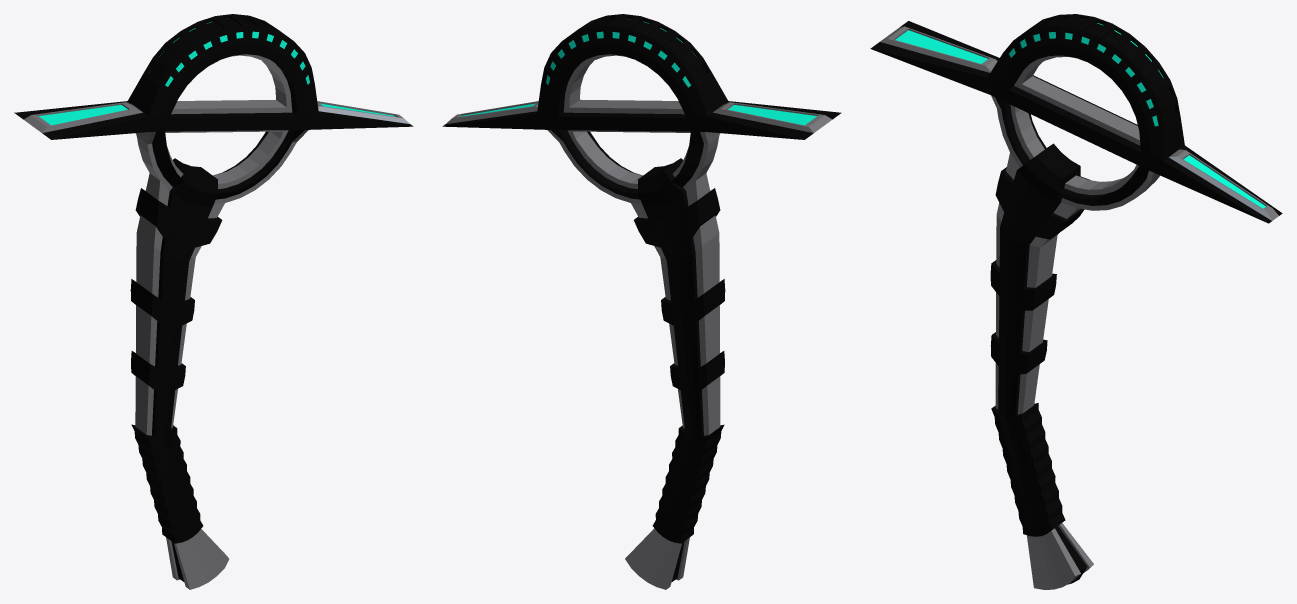
Rendered from pickaxe 3 Fagerone.fbx.
The picture shows the model from 3 angles, left to right: view 1: azimuth 30°, elevation 25°; view 2: azimuth 150°, elevation 25°; view 3: azimuth 330°, elevation 25°; orthographic projection. The views are drawn at different scales.
Visible parts, largest first — view 1: Cylinder.001; view 2: Cylinder.001; view 3: Cylinder.001.
Part boxes in pixels (left/top/right/bottom): Cylinder.001: left=14, top=14, right=413, bottom=589; Cylinder.001: left=442, top=14, right=841, bottom=589; Cylinder.001: left=870, top=14, right=1282, bottom=589.
Size of the model in its own units: 3.14 by 4.42 by 0.5395.
2 materials, 2 textured.
